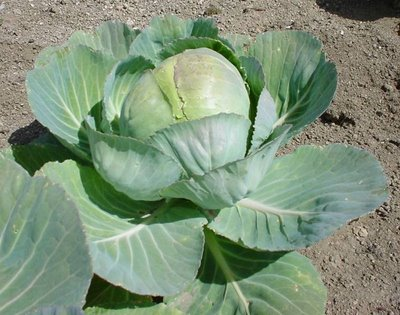cabbage: (123, 47, 251, 155)
